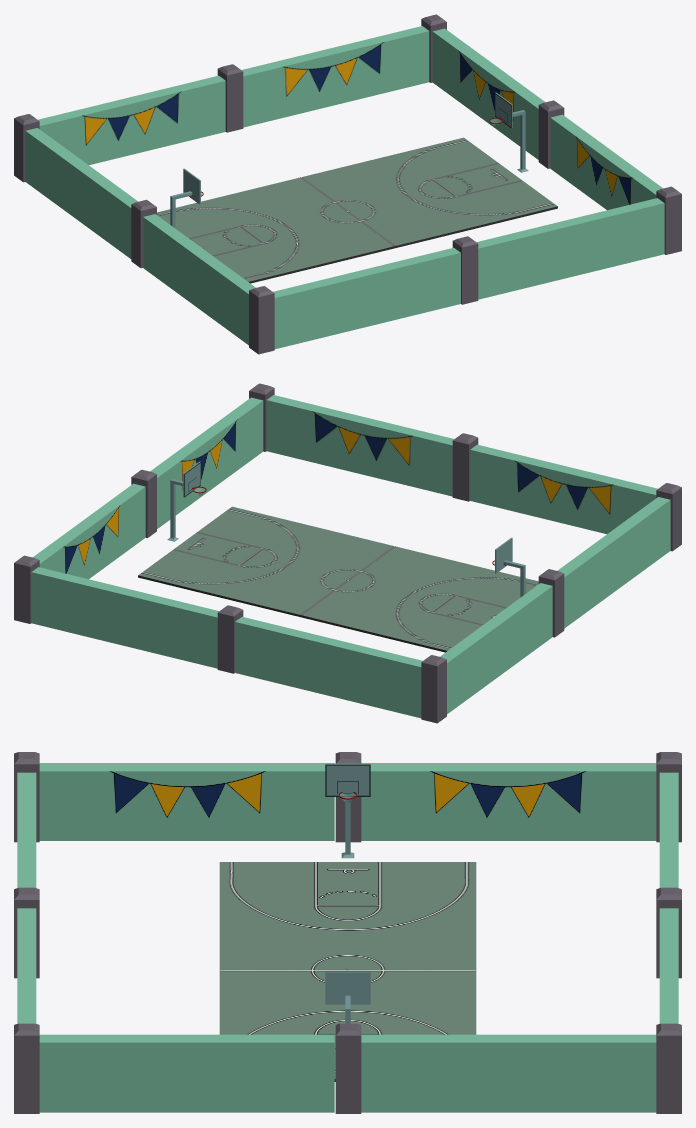
Rendered from Basketball court enviro.fbx.
3 views of the same model, one above another, from view 1: azimuth 30°, elevation 25°; view 2: azimuth 150°, elevation 25°; view 3: azimuth 270°, elevation 25° (orthographic). The views are drawn at different scales.
Visible parts, largest first — view 1: Court, Wall.004, Wall.002, Wall.001, Pillar.004, Pillar.003, Pillar.001, Pillar.002, Ring stand; view 2: Court, Wall.004, Wall.002, Wall.001, Pillar.004, Pillar.003, Pillar.001, Pillar.002, Ring stand; view 3: Wall.004, Court, Pillar.002, Wall.002, Wall.001, Pillar.001, Ring stand, Pillar.003, Pillar.004.
Boxes of the visible parts, left/top/right/bottom form: Court: left=157, top=137, right=557, bottom=283; Wall.004: left=25, top=28, right=662, bottom=345; Wall.002: left=241, top=26, right=664, bottom=299; Wall.001: left=38, top=75, right=460, bottom=349; Pillar.004: left=14, top=114, right=274, bottom=354; Pillar.003: left=217, top=64, right=478, bottom=304; Pillar.001: left=131, top=100, right=564, bottom=268; Pillar.002: left=421, top=14, right=681, bottom=254; Ring stand: left=170, top=92, right=528, bottom=228; Court: left=138, top=506, right=538, bottom=652; Wall.004: left=33, top=397, right=670, bottom=714; Wall.002: left=31, top=395, right=454, bottom=668; Wall.001: left=235, top=444, right=657, bottom=718; Pillar.004: left=421, top=483, right=681, bottom=723; Pillar.003: left=217, top=433, right=478, bottom=673; Pillar.001: left=131, top=469, right=564, bottom=637; Pillar.002: left=14, top=383, right=274, bottom=623; Ring stand: left=167, top=461, right=525, bottom=597; Wall.004: left=39, top=763, right=656, bottom=1112; Court: left=219, top=862, right=476, bottom=1081; Pillar.002: left=14, top=1023, right=681, bottom=1113; Wall.002: left=17, top=908, right=678, bottom=1023; Wall.001: left=17, top=772, right=678, bottom=887; Pillar.001: left=335, top=752, right=361, bottom=1113; Ring stand: left=325, top=763, right=370, bottom=1023; Pillar.003: left=14, top=887, right=681, bottom=978; Pillar.004: left=14, top=752, right=681, bottom=842.
Size of the model in its own units: 5200 by 906 by 5200.
Materials: 9 (2 with a texture image).
